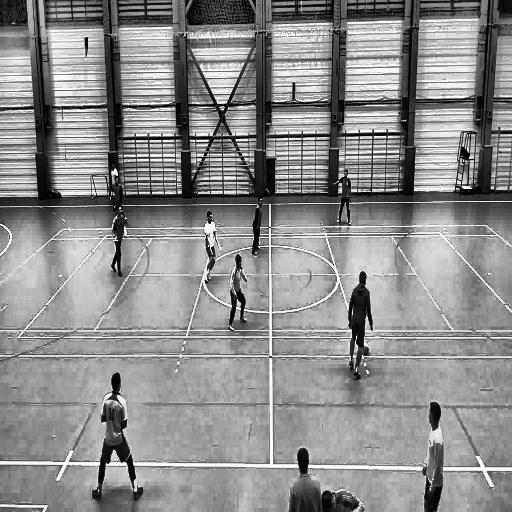ball: (363, 340, 370, 360)
player: (92, 370, 146, 505), (348, 271, 374, 381), (421, 399, 444, 512), (228, 255, 248, 334), (203, 209, 222, 286), (110, 203, 126, 281), (333, 169, 353, 227), (251, 195, 265, 258), (109, 176, 127, 223), (110, 158, 120, 210)
